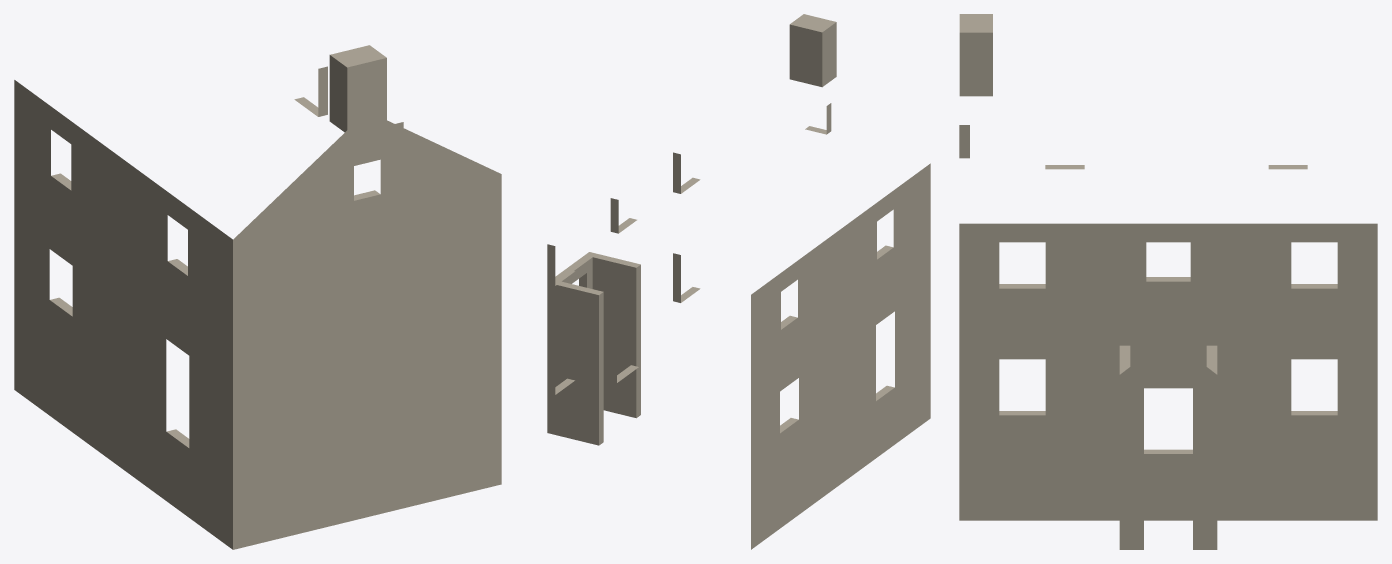
File: SM_Bld_217_Render.glb
3 renders of one model, left to right at view 1: azimuth 30°, elevation 25°; view 2: azimuth 150°, elevation 25°; view 3: azimuth 270°, elevation 25°, orthographic. The views are drawn at different scales.
Visible parts, largest first — view 1: SM_Bld_217_Render; view 2: SM_Bld_217_Render; view 3: SM_Bld_217_Render.
Part boxes in pixels (<box>): SM_Bld_217_Render: <box>14,45,501,549</box>; SM_Bld_217_Render: <box>547,14,930,549</box>; SM_Bld_217_Render: <box>959,14,1377,549</box>.
Size of the model in its own units: 7.49 by 9.81 by 8.56.
